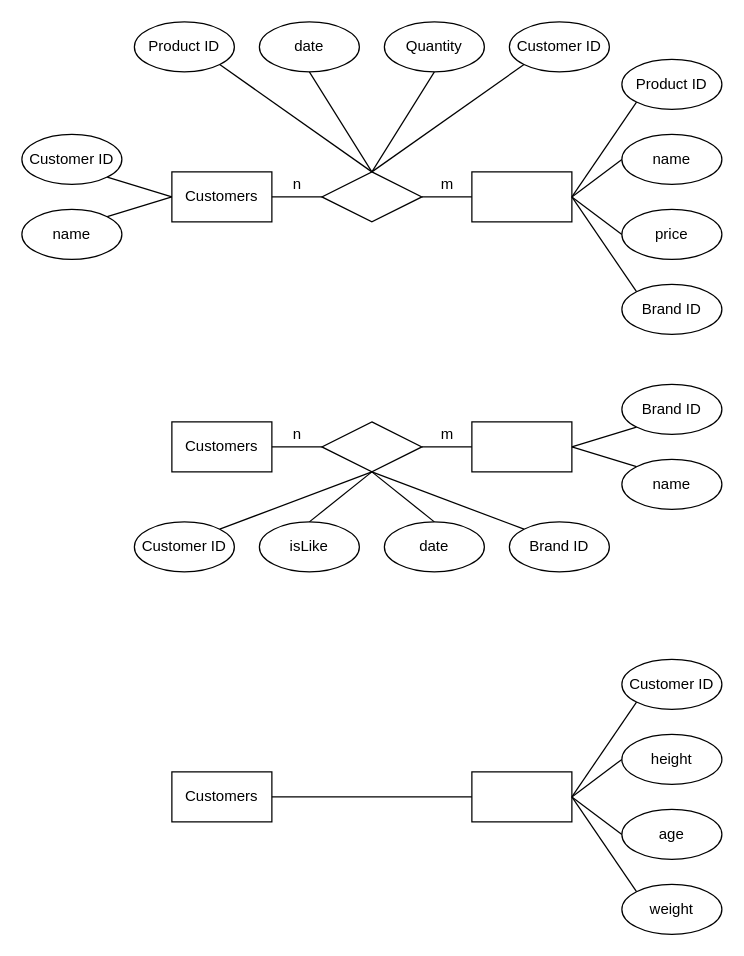
This 744x956 diagram has some shape labels left out. The centre of each missing label's shape, as x and y in pixels:
"brands" goes at (x=521, y=446).
"Likes" goes at (x=371, y=446).
"Orders" goes at (x=371, y=196).
"Products" goes at (x=521, y=196).
"Profiles" goes at (x=521, y=796).
